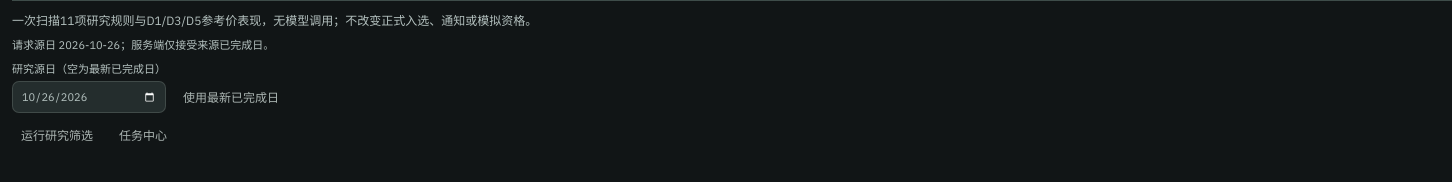
Test: an explicit current page date can be changed to latest completed source without changing the page date
The image size is (1452, 182).
Expected: the date field labelled "研究源日" holds "2026-10-26", [12,81,166,113]
Click the button "使用最新已完成日" at (231, 98), box [174,83,288,113]
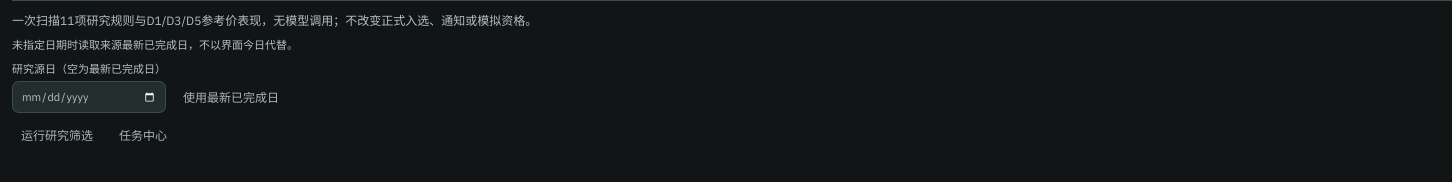
Click the button "运行研究筛选" at (57, 136), box [12,121,102,151]
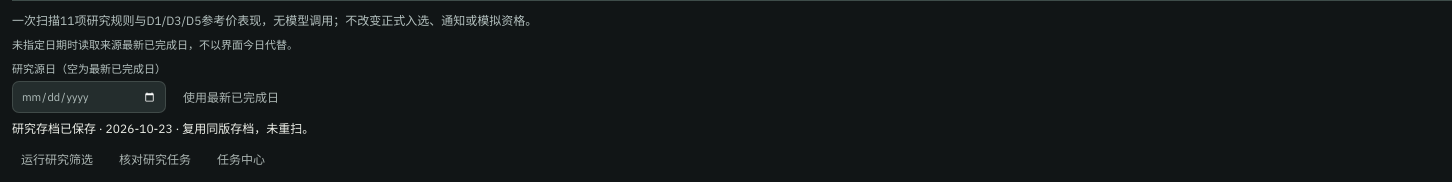
Expected: the text "研究存档已保存 · 2026-10-23 · 复用同版存档，未重扫。" is shown, [12,121,314,136]
